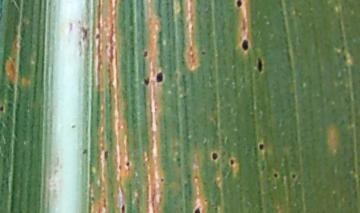tarspot: (78, 23, 91, 42), (254, 54, 265, 75), (239, 37, 251, 51), (208, 150, 221, 162), (155, 69, 164, 84), (118, 202, 128, 213), (142, 75, 152, 86), (227, 156, 236, 168), (103, 147, 110, 162), (66, 20, 74, 33), (191, 203, 201, 213), (271, 171, 281, 180), (123, 159, 133, 168), (68, 122, 78, 131), (81, 146, 89, 157), (233, 1, 245, 8), (289, 170, 297, 180), (257, 141, 265, 151), (158, 175, 166, 184), (142, 49, 148, 59), (200, 49, 207, 57), (1, 103, 6, 113), (94, 33, 99, 40)
